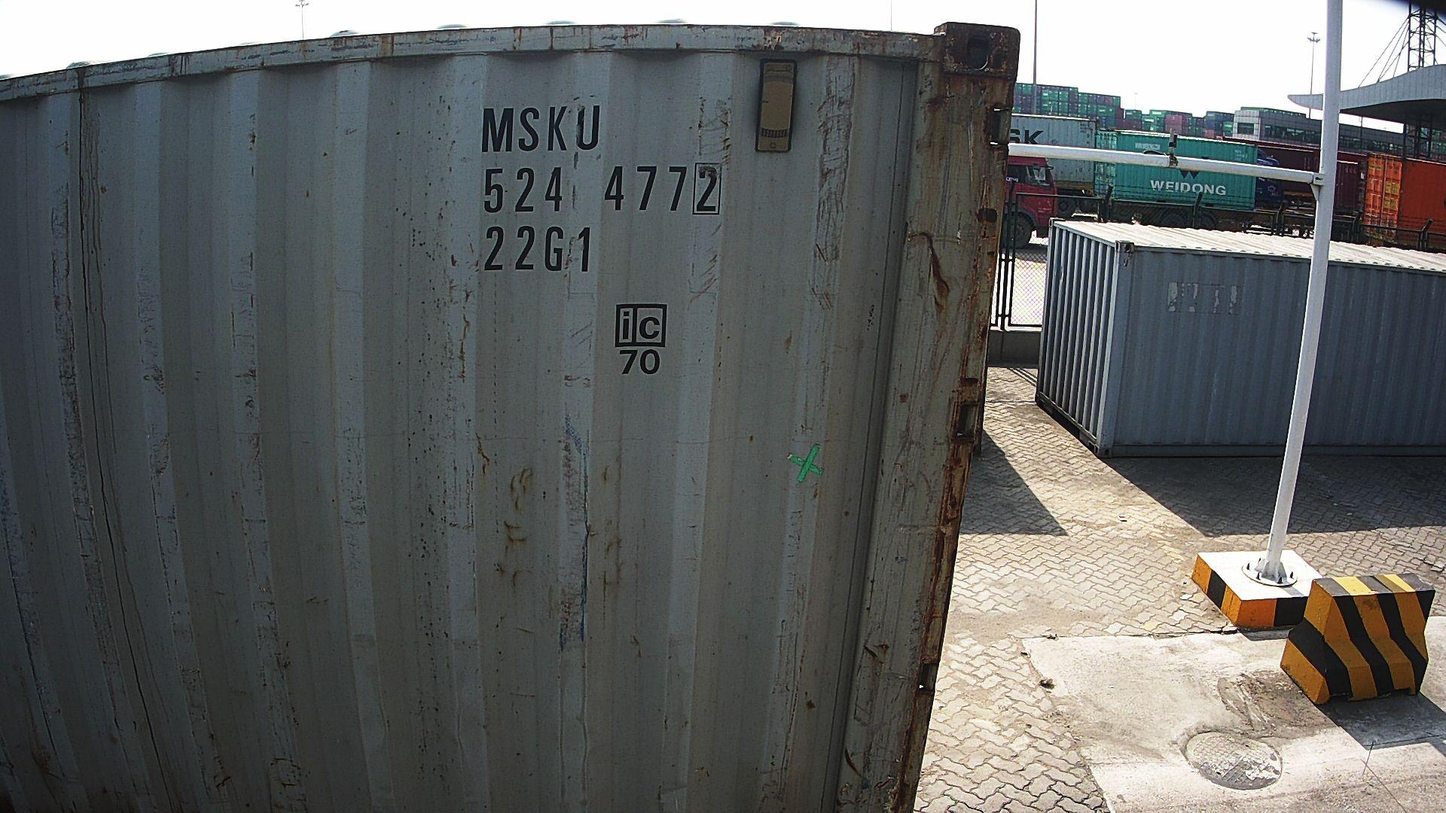container-numbers: (479, 161, 728, 219), (477, 102, 606, 157), (481, 221, 597, 276)
